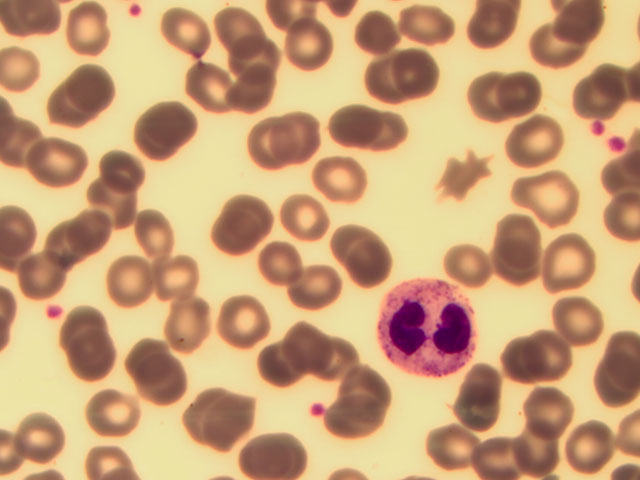Platelets: (46, 303, 68, 322), (584, 120, 607, 135), (610, 133, 623, 156), (128, 3, 142, 18), (309, 402, 325, 414)
RBC: (79, 386, 144, 438), (7, 420, 72, 472), (139, 359, 204, 411), (120, 330, 185, 382), (156, 305, 221, 357), (151, 252, 216, 304), (104, 249, 169, 301), (124, 205, 189, 257), (200, 209, 265, 261), (213, 192, 278, 244), (131, 104, 196, 156), (177, 62, 242, 114), (216, 64, 281, 116), (227, 37, 292, 89), (211, 7, 276, 59), (153, 7, 218, 59), (265, 20, 330, 72), (341, 50, 406, 102), (375, 46, 440, 98), (341, 14, 406, 66), (523, 19, 588, 71), (493, 66, 558, 118), (454, 66, 519, 118), (360, 106, 425, 158), (331, 100, 396, 152), (272, 111, 337, 163), (246, 113, 311, 165), (306, 151, 371, 203), (280, 192, 345, 244), (252, 231, 317, 283), (280, 259, 345, 311), (325, 203, 390, 255), (332, 232, 397, 284), (426, 238, 491, 290), (485, 213, 550, 265), (528, 235, 593, 287), (517, 163, 582, 215), (509, 110, 574, 162), (433, 150, 498, 202), (575, 358, 640, 410), (552, 286, 617, 338), (533, 328, 598, 380), (486, 335, 551, 387), (456, 354, 521, 406), (451, 382, 516, 434), (512, 383, 577, 435), (511, 421, 576, 473), (465, 425, 530, 477), (427, 418, 492, 470), (560, 421, 625, 473), (334, 397, 399, 449), (330, 363, 395, 415), (321, 334, 386, 386), (278, 315, 343, 367), (251, 336, 316, 388), (212, 296, 277, 348), (184, 396, 249, 448), (240, 428, 305, 480), (389, 1, 454, 52), (458, 1, 523, 52), (71, 62, 122, 110), (50, 82, 101, 130), (29, 138, 80, 186), (100, 145, 151, 193), (89, 173, 140, 221), (69, 210, 120, 258), (43, 221, 94, 269), (15, 253, 66, 301), (67, 299, 118, 347), (70, 337, 121, 385), (60, 1, 111, 48)
WBC: (373, 280, 482, 378)
